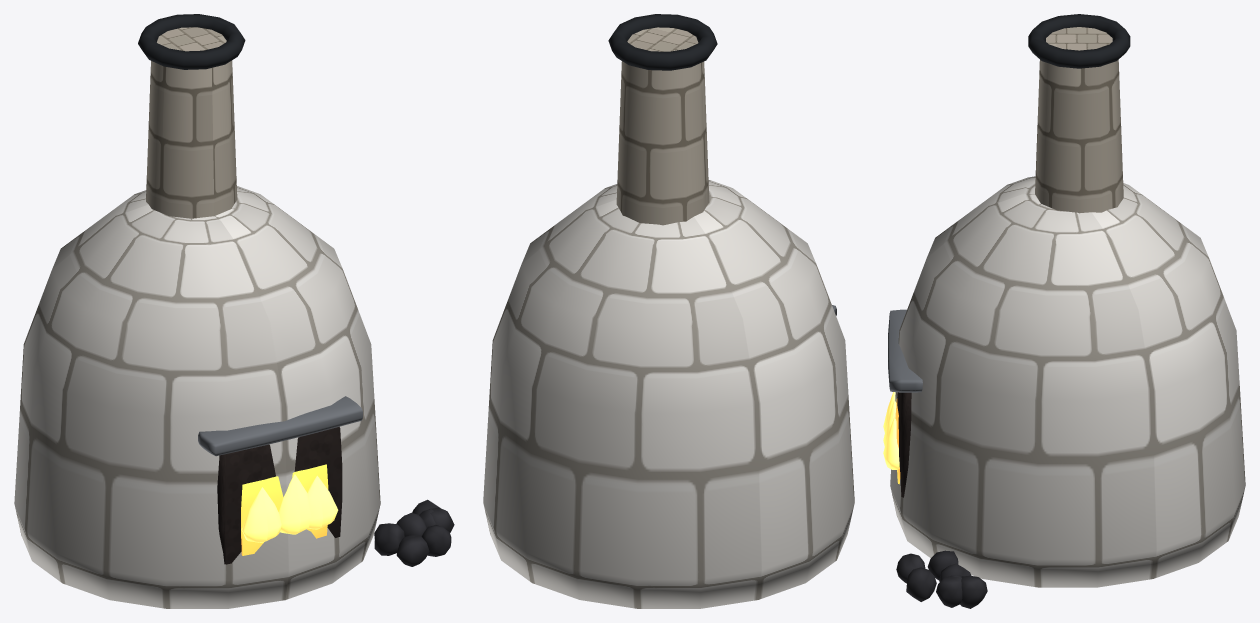
The model's file is station_furnace.glb.
The picture shows the model from 3 angles, left to right: view 1: azimuth 30°, elevation 25°; view 2: azimuth 150°, elevation 25°; view 3: azimuth 270°, elevation 25°; orthographic projection. The views are drawn at different scales.
Visible parts, largest first — view 1: station_furnace_stone_blocks, station_furnace; view 2: station_furnace_stone_blocks, station_furnace; view 3: station_furnace_stone_blocks, station_furnace.
Part boxes in pixels (bbox=[...]): station_furnace_stone_blocks: bbox=[14, 27, 380, 608]; station_furnace: bbox=[138, 14, 454, 566]; station_furnace_stone_blocks: bbox=[483, 27, 854, 608]; station_furnace: bbox=[608, 14, 836, 315]; station_furnace_stone_blocks: bbox=[890, 27, 1245, 587]; station_furnace: bbox=[883, 14, 1130, 608].
Size of the model in its own units: 1.73 by 2.36 by 1.59.
Materials: 5 (2 with a texture image).
